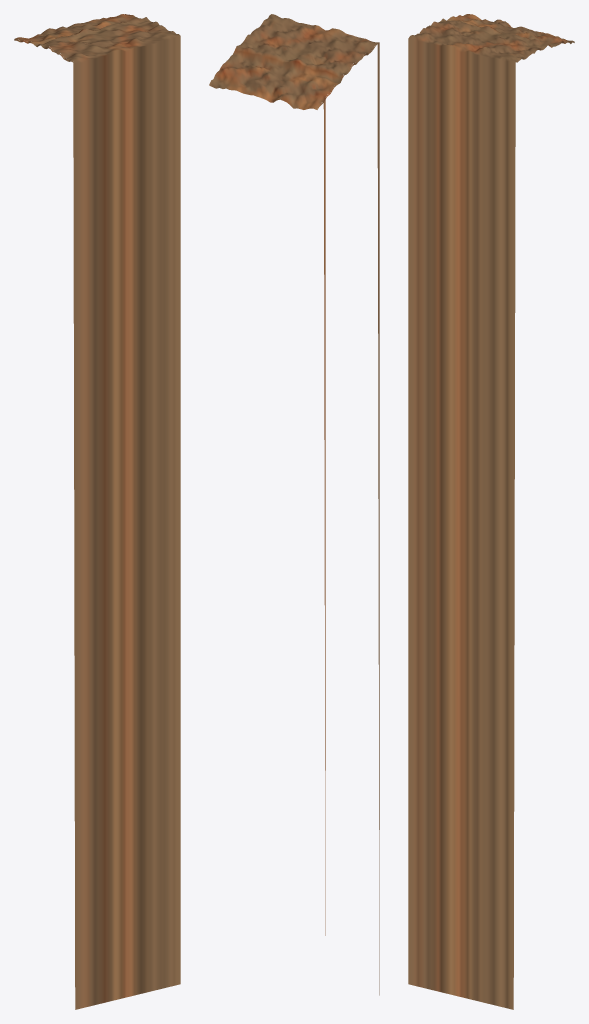
The model's file is terrain-125.glb.
3 views of the same model, side by side, from view 1: azimuth 30°, elevation 25°; view 2: azimuth 150°, elevation 25°; view 3: azimuth 330°, elevation 25° (orthographic). The views are drawn at different scales.
Parts seen in each view (by area): view 1: terrain-125; view 2: terrain-125; view 3: terrain-125.
Part boxes in pixels (left/top/right/bottom): terrain-125: left=14, top=14, right=180, bottom=1009; terrain-125: left=209, top=14, right=379, bottom=995; terrain-125: left=408, top=14, right=574, bottom=1009.
Bounding box in the file's own units: 256 × 2202 × 256.
